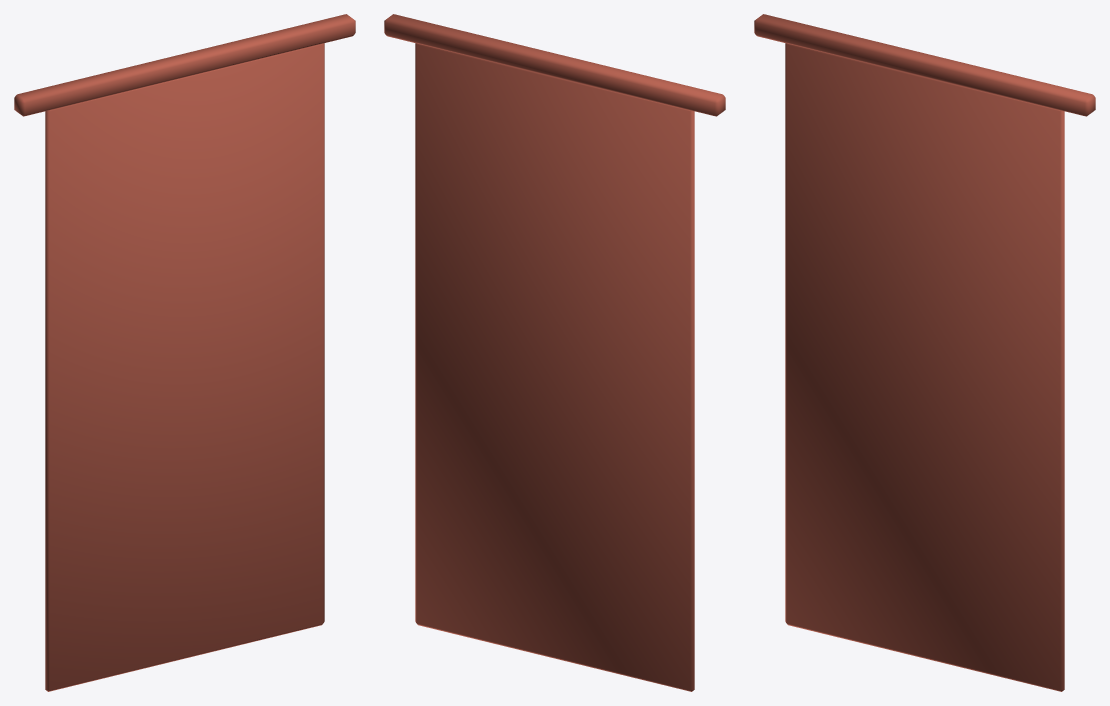
File: banner.glb
3 views of the same model, side by side, from view 1: azimuth 30°, elevation 25°; view 2: azimuth 150°, elevation 25°; view 3: azimuth 330°, elevation 25° (orthographic).
Visible parts, largest first — view 1: banner; view 2: banner; view 3: banner.
Boxes of the visible parts, box(x1,y1,x2,y2) form: banner: box(14, 14, 355, 691); banner: box(384, 14, 725, 691); banner: box(754, 14, 1095, 691).
Bounding box in the file's own units: 1.2 × 2.06 × 0.06.
Materials: 1 (1 with a texture image).
